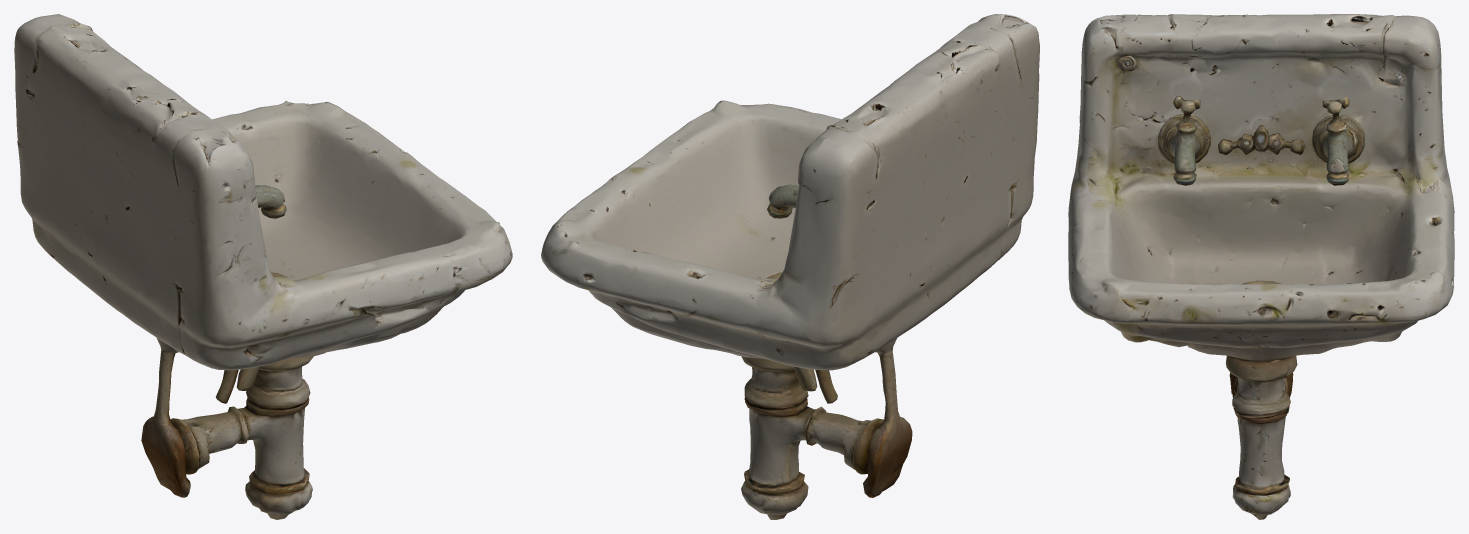
3 renders of one model, left to right at view 1: azimuth 30°, elevation 25°; view 2: azimuth 150°, elevation 25°; view 3: azimuth 270°, elevation 25°, orthographic. The views are drawn at different scales.
Visible parts, largest first — view 1: tripo_node_135f5a1e-897c-47a3-990c-d613b820cefa; view 2: tripo_node_135f5a1e-897c-47a3-990c-d613b820cefa; view 3: tripo_node_135f5a1e-897c-47a3-990c-d613b820cefa.
Boxes of the visible parts, <box> form: tripo_node_135f5a1e-897c-47a3-990c-d613b820cefa: <box>14,14,512,519</box>; tripo_node_135f5a1e-897c-47a3-990c-d613b820cefa: <box>541,14,1039,519</box>; tripo_node_135f5a1e-897c-47a3-990c-d613b820cefa: <box>1068,14,1454,519</box>.
Bounding box in the file's own units: 0.723 × 1 × 0.807.
Materials: 1 (1 with a texture image).
